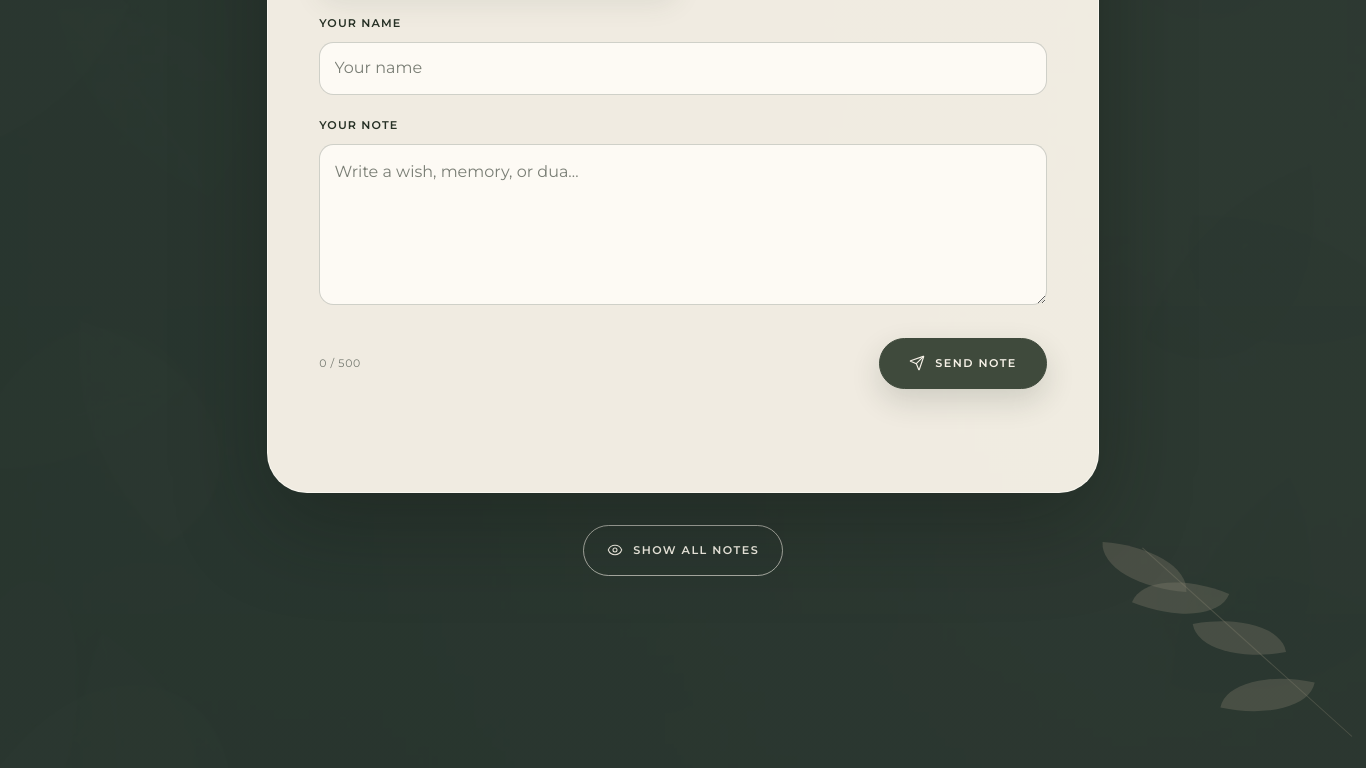
Test: guest notes section › loads previous notes only when the visitor asks to see them
(page scrolled)
Step 1. Click the button "Show all notes" → [683, 550], box x1=583 y1=525 x2=783 y2=576
(page scrolled)
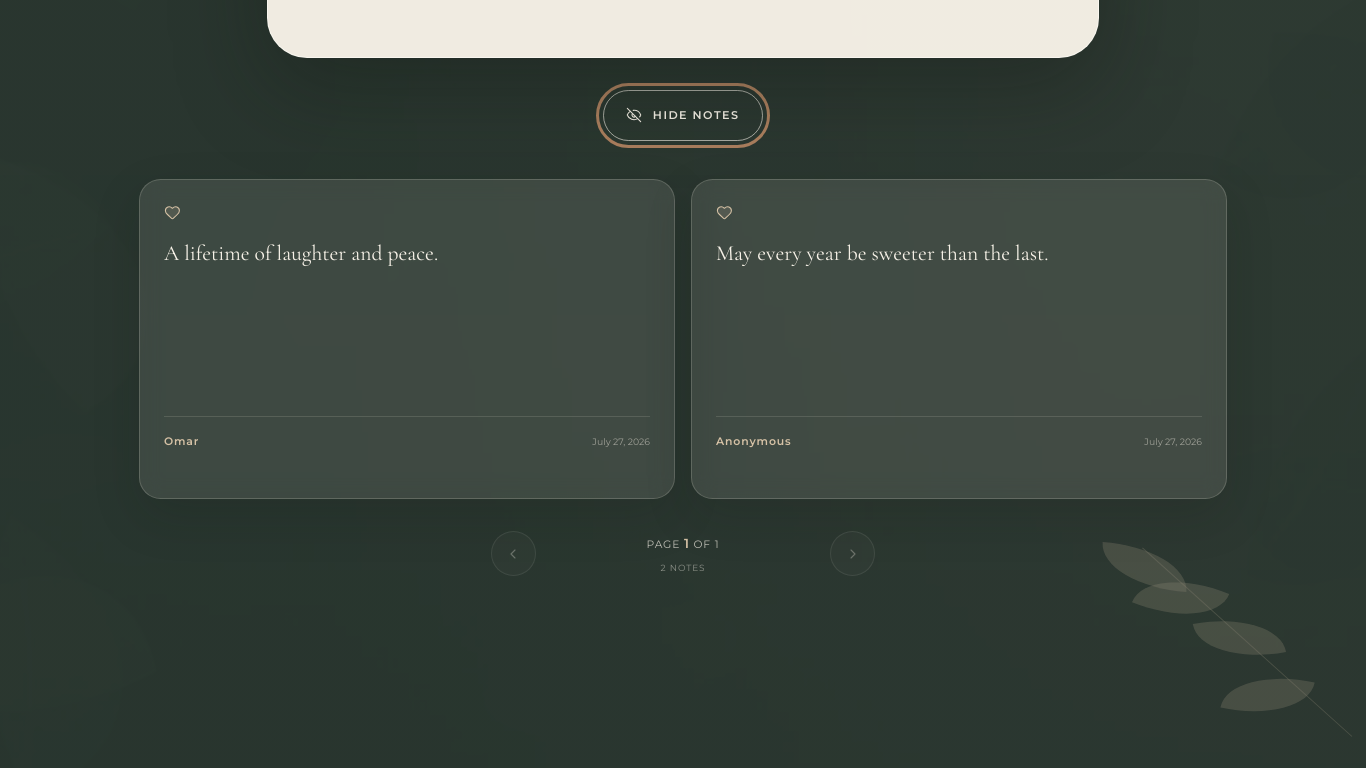
Now the text "A lifetime of laughter and peace." is shown, box x1=164 y1=240 x2=438 y2=266
Now the text "May every year be sweeter than the last." is shown, box x1=716 y1=240 x2=1049 y2=266
Now the text "Omar" is shown, box x1=164 y1=432 x2=199 y2=451
